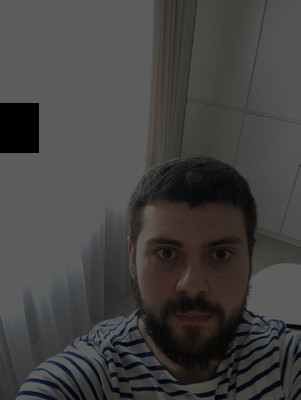without_mask: (139, 223, 251, 371)
